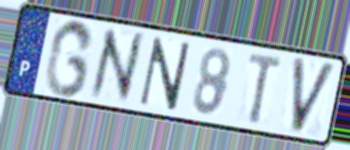8: (190, 46, 233, 118)
G: (42, 18, 96, 100)
N: (87, 25, 146, 103), (136, 35, 194, 113)
T: (246, 50, 286, 126)
V: (290, 55, 339, 137)
